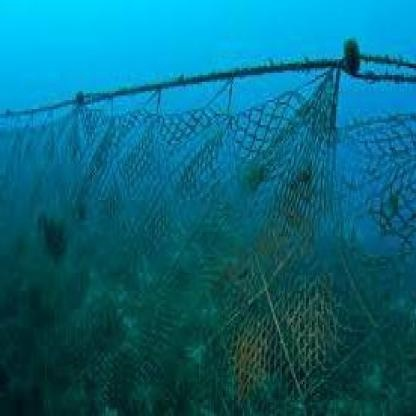net: (5, 102, 414, 409)
